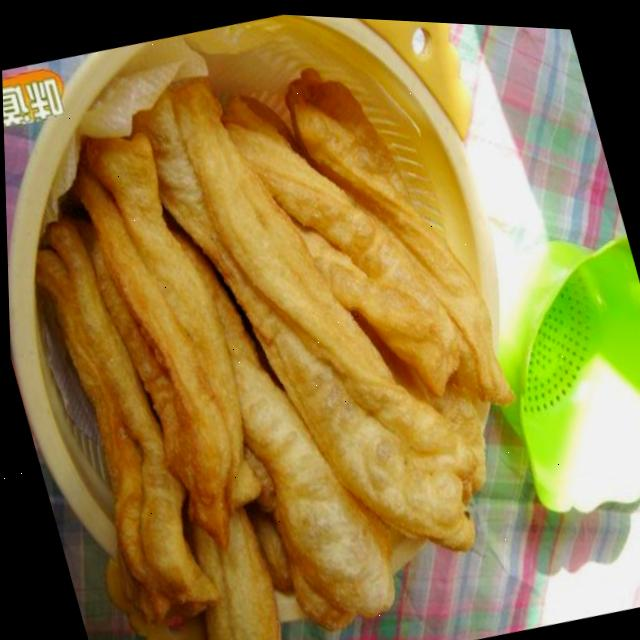炸货点心: (0, 0, 611, 640)
